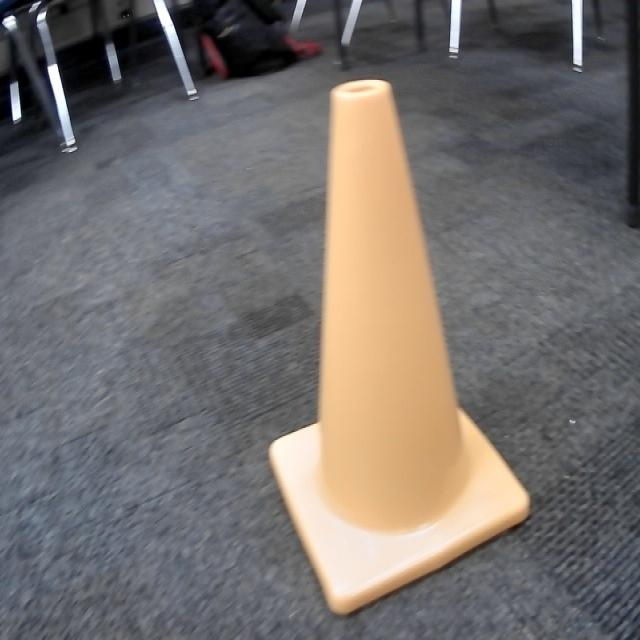cone: (266, 67, 535, 624)
